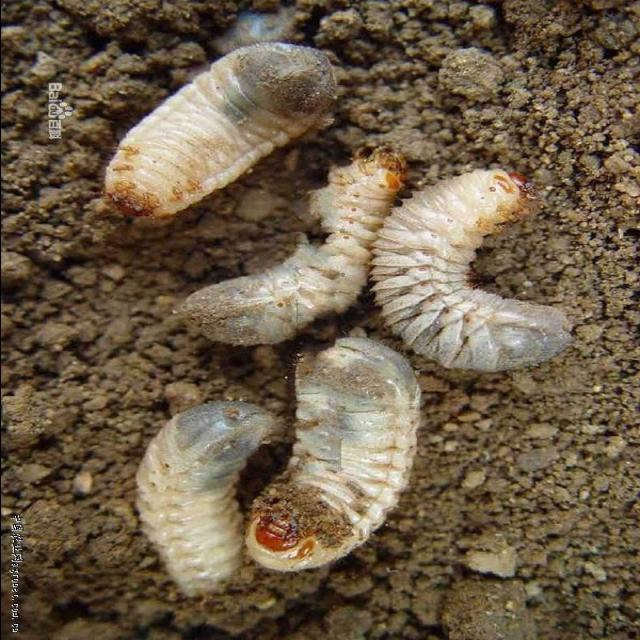grub: (180, 146, 409, 361), (102, 39, 340, 237), (241, 334, 418, 582), (372, 168, 569, 380), (138, 387, 278, 605)
